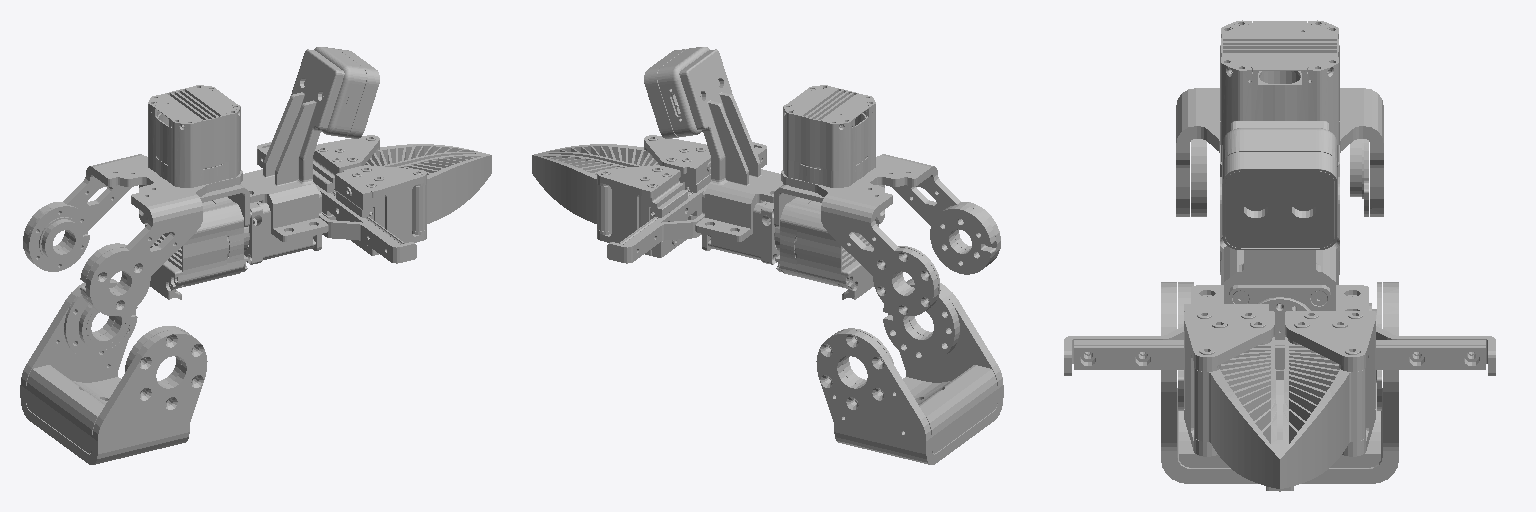
The robot description file, URDF, robot "Panthera-HT_description":
<?xml version="1.0" encoding="utf-8"?>
 <!-- This URDF was automatically created by SolidWorks to URDF Exporter! Originally created by Stephen Brawner (brawner@gmail.com) 
      Commit Version: 1.6.0-4-g7f85cfe  Build Version: 1.6.7995.38578
      For more information, please see http://wiki.ros.org/sw_urdf_exporter -->
 <robot name="Panthera-HT_description">
  <mujoco>
    <compiler meshdir="../meshes/" balanceinertia="true" discardvisual="false" />
  </mujoco>

   <link name="base_link">
     <inertial>
       <origin xyz="5.789e-05 -0.00015938 0.02298649" rpy="0 0 0" />
       <mass value="0.62922454" />
       <inertia ixx="0.00061305" ixy="-1.32e-06" ixz="1.69e-06" iyy="0.00063876" iyz="-2.1e-07" izz="0.0007565" />
     </inertial>
     <visual>
       <origin xyz="0 0 0" rpy="0 0 0" />
       <geometry>
         <mesh filename="../meshes/base_link.STL" />
       </geometry>
       <material name="">
         <color rgba="0.752941176470588 0.752941176470588 0.752941176470588 1" />
       </material>
     </visual>
     <collision>
       <origin xyz="0 0 0" rpy="0 0 0" />
       <geometry>
         <mesh filename="../meshes/base_link.STL" />
       </geometry>
     </collision>
   </link>
   <link name="link1">
     <inertial>
       <origin xyz="0.00278873 -0.00094387 0.02491842" rpy="0 0 0" />
       <mass value="0.28101551" />
       <inertia ixx="0.00039386" ixy="3.75e-06" ixz="-3.733e-05" iyy="0.0002136" iyz="7.17e-06" izz="0.00037066" />
     </inertial>
     <visual>
       <origin xyz="0 0 0" rpy="0 0 0" />
       <geometry>
         <mesh filename="../meshes/link1.STL" />
       </geometry>
       <material name="">
         <color rgba="0.752941176470588 0.752941176470588 0.752941176470588 1" />
       </material>
     </visual>
     <collision>
       <origin xyz="0 0 0" rpy="0 0 0" />
       <geometry>
         <mesh filename="../meshes/link1.STL" />
       </geometry>
     </collision>
   </link>
   <joint name="joint1" type="revolute">
     <origin xyz="0 0 0.0584" rpy="0 0 0" />
     <parent link="base_link" />
     <child link="link1" />
     <axis xyz="0 0 1" />
     <limit lower="-2.4" upper="2.4" effort="21" velocity="4.2" />
   </joint>
   <link name="link2">
     <inertial>
       <origin xyz="-0.12936212 -0.00213339 7.183e-05" rpy="0 0 0" />
       <mass value="1.5165092" />
       <inertia ixx="0.00044711" ixy="3.071e-05" ixz="-5.119e-05" iyy="0.02261049" iyz="3.01e-06" izz="0.02272105" />
     </inertial>
     <visual>
       <origin xyz="0 0 0" rpy="0 0 0" />
       <geometry>
         <mesh filename="../meshes/link2.STL" />
       </geometry>
       <material name="">
         <color rgba="0.752941176470588 0.752941176470588 0.752941176470588 1" />
       </material>
     </visual>
     <collision>
       <origin xyz="0 0 0" rpy="0 0 0" />
       <geometry>
         <mesh filename="../meshes/link2.STL" />
       </geometry>
     </collision>
   </link>
   <joint name="joint2" type="revolute">
     <origin xyz="0.018199 0 0.053" rpy="0 0 0" />
     <parent link="link1" />
     <child link="link2" />
     <axis xyz="0 1 0" />
     <limit lower="0.0" upper="3.2" effort="36" velocity="5" />
   </joint>
   <link name="link3">
     <inertial>
       <origin xyz="0.16343103 -0.00164646 0.05337427" rpy="0 0 0" />
       <mass value="0.66917784" />
       <inertia ixx="0.00061339" ixy="-1.439e-05" ixz="-0.00070321" iyy="0.00538615" iyz="-1.404e-05" izz="0.00532976" />
     </inertial>
     <visual>
       <origin xyz="0 0 0" rpy="0 0 0" />
       <geometry>
         <mesh filename="../meshes/link3.STL" />
       </geometry>
       <material name="">
         <color rgba="0.752941176470588 0.752941176470588 0.752941176470588 1" />
       </material>
     </visual>
     <collision>
       <origin xyz="0 0 0" rpy="0 0 0" />
       <geometry>
         <mesh filename="../meshes/link3.STL" />
       </geometry>
     </collision>
   </link>
   <joint name="joint3" type="revolute">
     <origin xyz="-0.26 0 0" rpy="0 0 0" />
     <parent link="link2" />
     <child link="link3" />
     <axis xyz="0 -1 0" />
     <limit lower="0.0" upper="4.0" effort="36" velocity="5" />
   </joint>
   <link name="link4">
     <inertial>
       <origin xyz="0.05240131 -0.00055249 0.04094177" rpy="0 0 0" />
       <mass value="0.30780516" />
       <inertia ixx="0.00025787" ixy="-1.011e-05" ixz="-0.00017337" iyy="0.00039454" iyz="-8.09e-06" izz="0.00035094" />
     </inertial>
     <visual>
       <origin xyz="0 0 0" rpy="0 0 0" />
       <geometry>
         <mesh filename="../meshes/link4.STL" />
       </geometry>
       <material name="">
         <color rgba="0.752941176470588 0.752941176470588 0.752941176470588 1" />
       </material>
     </visual>
     <collision>
       <origin xyz="0 0 0" rpy="0 0 0" />
       <geometry>
         <mesh filename="../meshes/link4.STL" />
       </geometry>
     </collision>
   </link>
   <joint name="joint4" type="revolute">
     <origin xyz="0.23 0 0.06" rpy="0 0 0" />
     <parent link="link3" />
     <child link="link4" />
     <axis xyz="0 -1 0" />
     <limit lower="-1.6" upper="1.6" effort="21" velocity="4.2" />
   </joint>
   <link name="link5">
     <inertial>
       <origin xyz="0.00303007 8.509e-05 -0.03624079" rpy="0 0 0" />
       <mass value="0.23711139" />
       <inertia ixx="4.815e-05" ixy="-3e-08" ixz="-1.5e-07" iyy="5.773e-05" iyz="-1e-08" izz="3.359e-05" />
     </inertial>
     <visual>
       <origin xyz="0 0 0" rpy="0 0 0" />
       <geometry>
         <mesh filename="../meshes/link5.STL" />
       </geometry>
       <material name="">
         <color rgba="0.752941176470588 0.752941176470588 0.752941176470588 1" />
       </material>
     </visual>
     <collision>
       <origin xyz="0 0 0" rpy="0 0 0" />
       <geometry>
         <mesh filename="../meshes/link5.STL" />
       </geometry>
     </collision>
   </link>
   <joint name="joint5" type="revolute">
     <origin xyz="0.07 0 0.036319" rpy="0 0 0" />
     <parent link="link4" />
     <child link="link5" />
     <axis xyz="0 0 -1" />
     <limit lower="-1.7" upper="1.7" effort="10" velocity="3.7" />
   </joint>
   <link name="link6">
     <inertial>
       <origin xyz="0.06704625 0.00051731 1.674e-05" rpy="0 0 0" />
       <mass value="0.30" />
       <inertia ixx="0.00107368" ixy="-1.25e-05" ixz="3e-07" iyy="0.00068998" iyz="2.517e-05" izz="0.00167551" />
     </inertial>
     <visual>
       <origin xyz="0 0 0" rpy="0 0 0" />
       <geometry>
         <mesh filename="../meshes/link6.STL" />
       </geometry>
       <material name="">
         <color rgba="0.752941176470588 0.752941176470588 0.752941176470588 1" />
       </material>
     </visual>
     <collision>
       <origin xyz="0 0 0" rpy="0 0 0" />
       <geometry>
         <mesh filename="../meshes/link6.STL" />
       </geometry>
     </collision>
   </link>
   <joint name="joint6" type="revolute">
     <origin xyz="0.02345 0 -0.039" rpy="0 0 0" />
     <parent link="link5" />
     <child link="link6" />
     <axis xyz="1 0 0" />
     <limit lower="-2.5" upper="2.5" effort="10" velocity="3.7" />
   </joint>
  <link
    name="camera_link">
    <inertial>
      <origin
        xyz="-0.0151904064969261 -0.0087972210446848 -0.0176120095960779"
        rpy="0 0 0" />
      <mass
        value="0.067879457147193" />
      <inertia
        ixx="3.88009392858458E-05"
        ixy="-1.46975802473254E-08"
        ixz="-1.5009815310486E-06"
        iyy="3.16876942414111E-05"
        iyz="-4.09946845583251E-10"
        izz="1.40264332779237E-05" />
    </inertial>
    <visual>
      <origin
        xyz="0 0 0"
        rpy="0 0 0" />
      <geometry>
        <mesh
          filename="../meshes/camera_link.STL" />
      </geometry>
      <material
        name="">
        <color
          rgba="0.752941176470588 0.752941176470588 0.752941176470588 1" />
      </material>
    </visual>
    <collision>
      <origin
        xyz="0 0 0"
        rpy="0 0 0" />
      <geometry>
        <mesh
          filename="../meshes/camera_link.STL" />
      </geometry>
    </collision>
  </link>
  <joint
    name="camera_joint"
    type="fixed">
    <origin
      xyz="0.0764330142574211 0.00875000000000244 0.0657518869921775"
      rpy="0 0.34906585039886 0" />
    <parent
      link="link6" />
    <child
      link="camera_link" />
    <axis
      xyz="0 0 0" />
  </joint>
  <link
    name="gripper_L_link">
    <inertial>
      <origin
        xyz="-0.0689045503951467 0.016838818748423 -0.00051506704416468"
        rpy="0 0 0" />
      <mass
        value="0.126262305553934" />
      <inertia
        ixx="2.2876600300604E-05"
        ixy="4.20099870625026E-06"
        ixz="-3.428418926008E-07"
        iyy="5.15557851738735E-05"
        iyz="5.67310171627736E-10"
        izz="4.64893480635768E-05" />
    </inertial>
    <visual>
      <origin
        xyz="0 0 0"
        rpy="0 0 0" />
      <geometry>
        <mesh
          filename="../meshes/gripper_L_link.STL" />
      </geometry>
      <material
        name="">
        <color
          rgba="0.752941176470588 0.752941176470588 0.752941176470588 1" />
      </material>
    </visual>
    <collision>
      <origin
        xyz="0 0 0"
        rpy="0 0 0" />
      <geometry>
        <mesh
          filename="../meshes/gripper_L_link.STL" />
      </geometry>
    </collision>
  </link>
  <joint
    name="gripper_L_joint"
    type="prismatic">
    <origin
      xyz="0.16555 0 0"
      rpy="0 0 0" />
    <parent
      link="link6" />
    <child
      link="gripper_L_link" />
    <axis
      xyz="0 1 0" />
    <limit
      lower="0"
      upper="0.04"
      effort="100"
      velocity="0.1" />
  </joint>
  <link
    name="gripper_R_link">
    <inertial>
      <origin
        xyz="-0.0689045503951589 -0.0168388187484273 0.000515298547314635"
        rpy="0 0 0" />
      <mass
        value="0.126262305553934" />
      <inertia
        ixx="2.28766003006011E-05"
        ixy="-4.20099870624889E-06"
        ixz="3.42841892601024E-07"
        iyy="5.15557851738731E-05"
        iyz="5.67310171354176E-10"
        izz="4.64893480635735E-05" />
    </inertial>
    <visual>
      <origin
        xyz="0 0 0"
        rpy="0 0 0" />
      <geometry>
        <mesh
          filename="../meshes/gripper_R_link.STL" />
      </geometry>
      <material
        name="">
        <color
          rgba="0.752941176470588 0.752941176470588 0.752941176470588 1" />
      </material>
    </visual>
    <collision>
      <origin
        xyz="0 0 0"
        rpy="0 0 0" />
      <geometry>
        <mesh
          filename="../meshes/gripper_R_link.STL" />
      </geometry>
    </collision>
  </link>
  <joint
    name="gripper_R_joint"
    type="prismatic">
    <origin
      xyz="0.16555 0 0"
      rpy="0 0 0" />
    <parent
      link="link6" />
    <child
      link="gripper_R_link" />
    <axis
      xyz="0 1 0" />
    <limit
      lower="-0.04"
      upper="0"
      effort="100"
      velocity="0.1" />
    <mimic
      joint="gripper_L_joint"
      multiplier="-1"
      offset="0" />
  </joint>
  <link name="tool_link"/>
  <joint name="tool_joint" type="fixed">
    <parent link="link6"/>
    <child link="tool_link"/>
    <origin xyz="0.165 0 0" rpy="0 0 0"/>
  </joint>
</robot>

--- Facts derived from the render (not from the file) ---
The picture shows the robot from 3 angles, left to right: view 1: azimuth 30°, elevation 25°; view 2: azimuth 150°, elevation 25°; view 3: azimuth 270°, elevation 25°; orthographic projection.
Model Panthera-HT_description with 11 links and 10 joints (6 revolute, 2 prismatic, 2 fixed), rooted at base_link, posed all joints at 0.
Visible links, largest first — view 1: link4, link1, camera_link, gripper_R_link, link5, link6, gripper_L_link; view 2: link4, link1, camera_link, gripper_L_link, link5, link6, gripper_R_link; view 3: link4, camera_link, gripper_R_link, gripper_L_link, link6, link1, link5.
Link boxes in pixels (x1=…): link4: x1=23, y1=85, x2=242, y2=315; link1: x1=20, y1=279, x2=207, y2=464; camera_link: x1=241, y1=47, x2=379, y2=241; gripper_R_link: x1=335, y1=154, x2=491, y2=255; link5: x1=139, y1=184, x2=249, y2=299; link6: x1=244, y1=142, x2=416, y2=264; gripper_L_link: x1=313, y1=135, x2=489, y2=219; link4: x1=781, y1=85, x2=1000, y2=315; link1: x1=816, y1=279, x2=1003, y2=464; camera_link: x1=644, y1=47, x2=782, y2=241; gripper_L_link: x1=532, y1=154, x2=687, y2=257; link5: x1=774, y1=184, x2=884, y2=299; link6: x1=607, y1=142, x2=779, y2=264; gripper_R_link: x1=534, y1=135, x2=710, y2=219; link4: x1=1176, y1=20, x2=1383, y2=216; camera_link: x1=1191, y1=121, x2=1368, y2=310; gripper_R_link: x1=1184, y1=304, x2=1279, y2=488; gripper_L_link: x1=1280, y1=311, x2=1375, y2=488; link6: x1=1064, y1=285, x2=1495, y2=379; link1: x1=1161, y1=282, x2=1398, y2=491; link5: x1=1220, y1=177, x2=1339, y2=284.
Size in the robot's own frame: 0.2835 by 0.158 by 0.2015 metres.
Meshes: 10 distinct files referenced, 7 mesh visuals loaded (7 binary STL); not drawn: 3 (reference not matched to a file when rendering).
